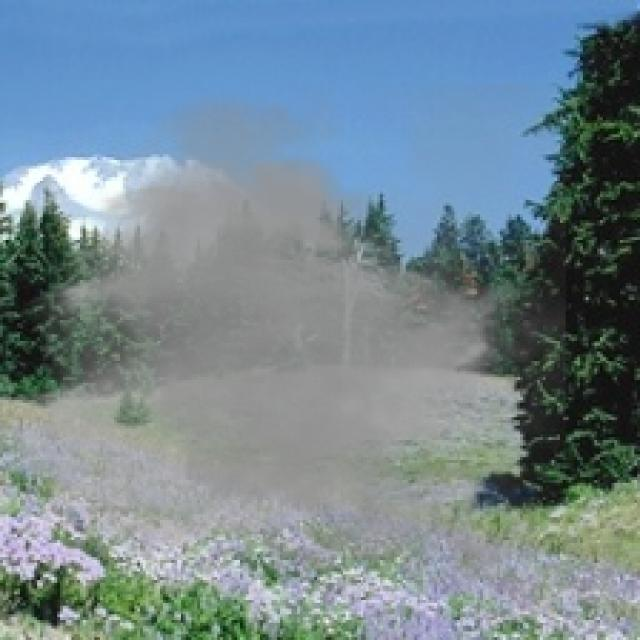smoke: (6, 83, 566, 608)
